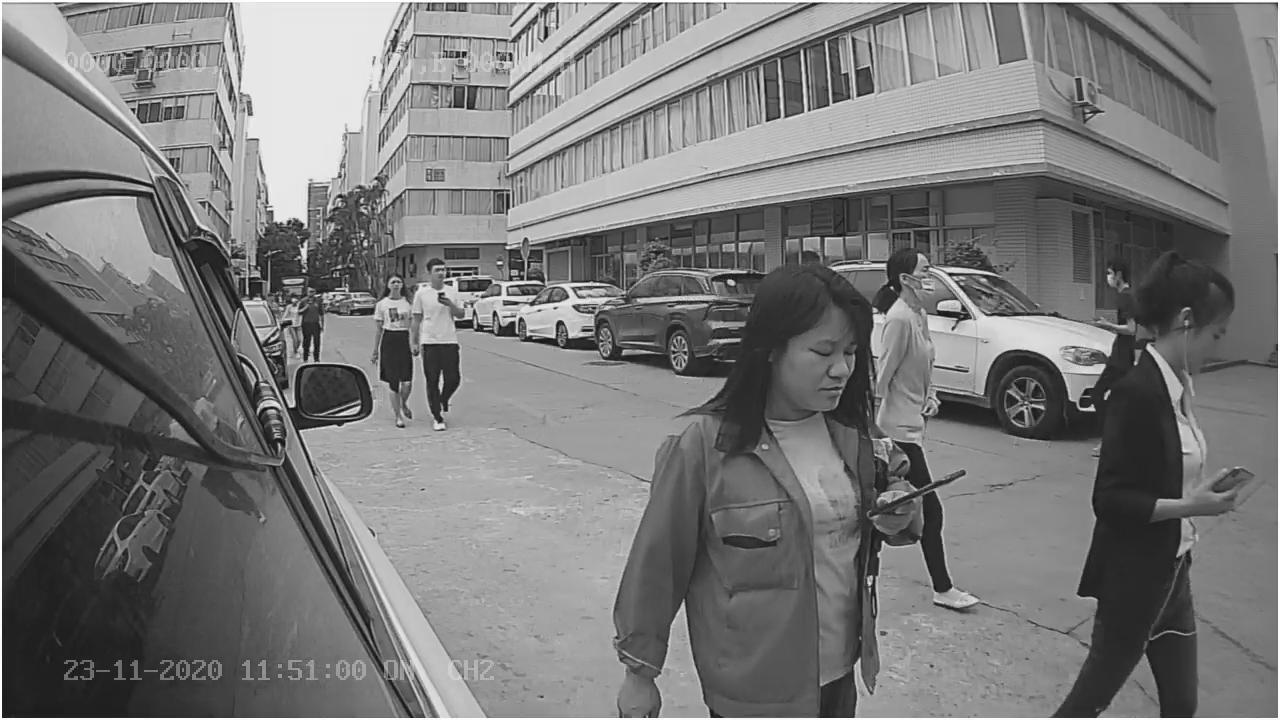person: (369, 270, 424, 433)
